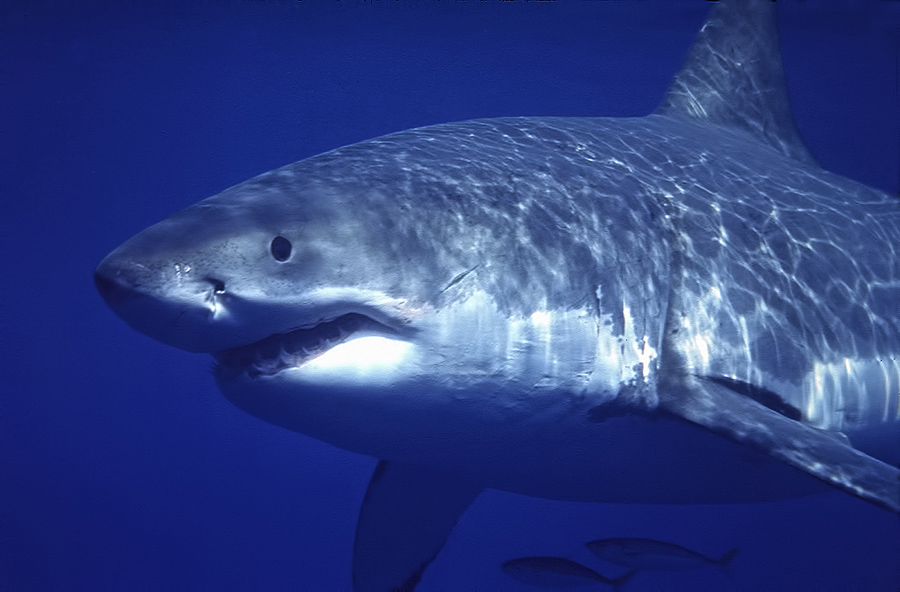Carcharodon_carcharias: (64, 12, 899, 543)
